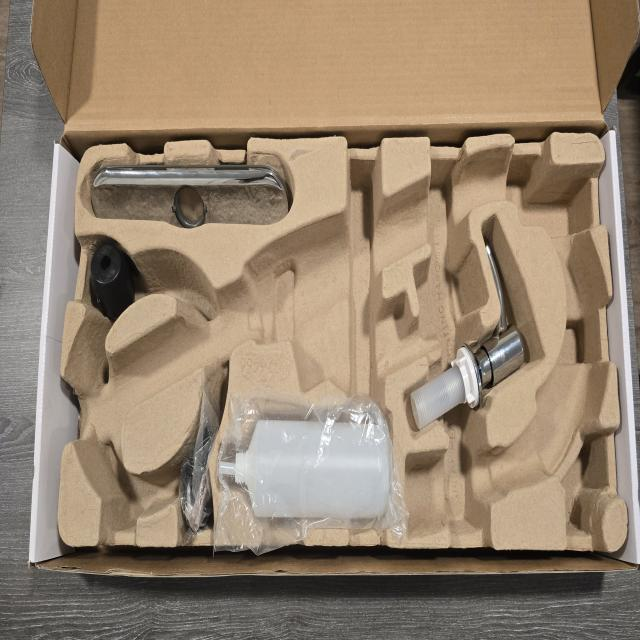1m: (62, 147, 603, 539)
2: (410, 246, 524, 432)
3: (218, 418, 391, 518)
4: (89, 167, 290, 230)
5: (89, 241, 137, 321)
6m: (80, 441, 157, 538)
7: (179, 388, 220, 541)
